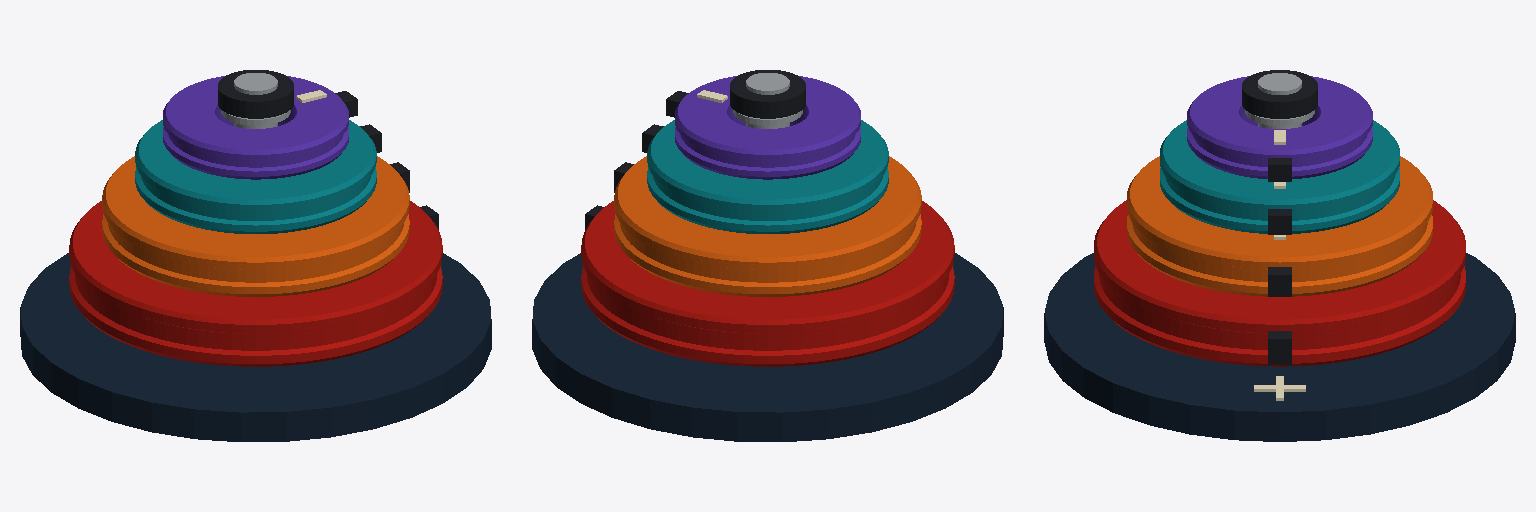
The robot description file, URDF, robot "stepped_coaxial_rotary_stack":
<robot name="stepped_coaxial_rotary_stack">
  <material name="dark_steel">
    <color rgba="0.15 0.16 0.18 1" />
    </material>
  <material name="brushed_steel">
    <color rgba="0.63 0.65 0.66 1" />
    </material>
  <material name="ground_blue">
    <color rgba="0.12 0.18 0.25 1" />
    </material>
  <material name="bronze_bearing">
    <color rgba="0.72 0.48 0.24 1" />
    </material>
  <material name="ivory_tick">
    <color rgba="0.92 0.88 0.76 1" />
    </material>
  <material name="stage_red">
    <color rgba="0.7 0.13 0.1 1" />
    </material>
  <material name="stage_orange">
    <color rgba="0.85 0.4 0.1 1" />
    </material>
  <material name="stage_teal">
    <color rgba="0.08 0.52 0.55 1" />
    </material>
  <material name="stage_violet">
    <color rgba="0.38 0.25 0.68 1" />
    </material>
  <link name="base">
    <inertial>
      <origin xyz="0 0 0.26" rpy="0 0 0" />
      <mass value="8.5" />
      <inertia ixx="0.584446" ixy="0" ixz="0" iyy="0.584446" iyz="0" izz="0.785825" />
      </inertial>
    <visual name="ground_plinth">
      <origin xyz="0 0 0.03" rpy="0 0 0" />
      <geometry>
        <cylinder radius="0.43" length="0.06" />
        </geometry>
      <material name="ground_blue">
        <color rgba="0.12 0.18 0.25 1" />
        </material>
      </visual>
    <visual name="lower_bearing_housing">
      <origin xyz="0 0 0.0775" rpy="0 0 0" />
      <geometry>
        <cylinder radius="0.185" length="0.035" />
        </geometry>
      <material name="dark_steel">
        <color rgba="0.15 0.16 0.18 1" />
        </material>
      </visual>
    <visual name="common_shaft">
      <origin xyz="0 0 0.3" rpy="0 0 0" />
      <geometry>
        <cylinder radius="0.04" length="0.45" />
        </geometry>
      <material name="brushed_steel">
        <color rgba="0.63 0.65 0.66 1" />
        </material>
      </visual>
    <visual name="shaft_cap">
      <origin xyz="0 0 0.5" rpy="0 0 0" />
      <geometry>
        <cylinder radius="0.07" length="0.034" />
        </geometry>
      <material name="dark_steel">
        <color rgba="0.15 0.16 0.18 1" />
        </material>
      </visual>
    <visual name="shaft_spacer_0">
      <origin xyz="0 0 0.101" rpy="0 0 0" />
      <geometry>
        <cylinder radius="0.064" length="0.01" />
        </geometry>
      <material name="brushed_steel">
        <color rgba="0.63 0.65 0.66 1" />
        </material>
      </visual>
    <visual name="shaft_spacer_1">
      <origin xyz="0 0 0.211" rpy="0 0 0" />
      <geometry>
        <cylinder radius="0.064" length="0.013" />
        </geometry>
      <material name="brushed_steel">
        <color rgba="0.63 0.65 0.66 1" />
        </material>
      </visual>
    <visual name="shaft_spacer_2">
      <origin xyz="0 0 0.309" rpy="0 0 0" />
      <geometry>
        <cylinder radius="0.064" length="0.014" />
        </geometry>
      <material name="brushed_steel">
        <color rgba="0.63 0.65 0.66 1" />
        </material>
      </visual>
    <visual name="shaft_spacer_3">
      <origin xyz="0 0 0.397" rpy="0 0 0" />
      <geometry>
        <cylinder radius="0.064" length="0.014" />
        </geometry>
      <material name="brushed_steel">
        <color rgba="0.63 0.65 0.66 1" />
        </material>
      </visual>
    <visual name="shaft_spacer_4">
      <origin xyz="0 0 0.472" rpy="0 0 0" />
      <geometry>
        <cylinder radius="0.064" length="0.012" />
        </geometry>
      <material name="brushed_steel">
        <color rgba="0.63 0.65 0.66 1" />
        </material>
      </visual>
    <visual name="support_washer_0">
      <origin xyz="0 0 0.1045" rpy="0 0 0" />
      <geometry>
        <cylinder radius="0.092" length="0.006" />
        </geometry>
      <material name="bronze_bearing">
        <color rgba="0.72 0.48 0.24 1" />
        </material>
      </visual>
    <visual name="support_washer_1">
      <origin xyz="0 0 0.217" rpy="0 0 0" />
      <geometry>
        <cylinder radius="0.092" length="0.006" />
        </geometry>
      <material name="bronze_bearing">
        <color rgba="0.72 0.48 0.24 1" />
        </material>
      </visual>
    <visual name="support_washer_2">
      <origin xyz="0 0 0.315" rpy="0 0 0" />
      <geometry>
        <cylinder radius="0.092" length="0.006" />
        </geometry>
      <material name="bronze_bearing">
        <color rgba="0.72 0.48 0.24 1" />
        </material>
      </visual>
    <visual name="support_washer_3">
      <origin xyz="0 0 0.402" rpy="0 0 0" />
      <geometry>
        <cylinder radius="0.092" length="0.006" />
        </geometry>
      <material name="bronze_bearing">
        <color rgba="0.72 0.48 0.24 1" />
        </material>
      </visual>
    <visual name="base_tick_0">
      <origin xyz="0.335 0 0.063" rpy="0 0 0" />
      <geometry>
        <box size="0.095 0.014 0.008" />
        </geometry>
      <material name="ivory_tick">
        <color rgba="0.92 0.88 0.76 1" />
        </material>
      </visual>
    <visual name="base_tick_1">
      <origin xyz="0.335 0 0.063" rpy="0 0 1.5708" />
      <geometry>
        <box size="0.095 0.014 0.008" />
        </geometry>
      <material name="ivory_tick">
        <color rgba="0.92 0.88 0.76 1" />
        </material>
      </visual>
    <visual name="base_tick_2">
      <origin xyz="0.335 0 0.063" rpy="0 0 3.14159" />
      <geometry>
        <box size="0.095 0.014 0.008" />
        </geometry>
      <material name="ivory_tick">
        <color rgba="0.92 0.88 0.76 1" />
        </material>
      </visual>
    <visual name="base_tick_3">
      <origin xyz="0.335 0 0.063" rpy="0 0 4.71239" />
      <geometry>
        <box size="0.095 0.014 0.008" />
        </geometry>
      <material name="ivory_tick">
        <color rgba="0.92 0.88 0.76 1" />
        </material>
      </visual>
    <collision name="ground_plinth">
      <origin xyz="0 0 0.03" rpy="0 0 0" />
      <geometry>
        <cylinder radius="0.43" length="0.06" />
        </geometry>
      </collision>
    <collision name="lower_bearing_housing">
      <origin xyz="0 0 0.0775" rpy="0 0 0" />
      <geometry>
        <cylinder radius="0.185" length="0.035" />
        </geometry>
      </collision>
    <collision name="common_shaft">
      <origin xyz="0 0 0.3" rpy="0 0 0" />
      <geometry>
        <cylinder radius="0.04" length="0.45" />
        </geometry>
      </collision>
    <collision name="shaft_cap">
      <origin xyz="0 0 0.5" rpy="0 0 0" />
      <geometry>
        <cylinder radius="0.07" length="0.034" />
        </geometry>
      </collision>
    <collision name="shaft_spacer_0">
      <origin xyz="0 0 0.101" rpy="0 0 0" />
      <geometry>
        <cylinder radius="0.064" length="0.01" />
        </geometry>
      </collision>
    <collision name="shaft_spacer_1">
      <origin xyz="0 0 0.211" rpy="0 0 0" />
      <geometry>
        <cylinder radius="0.064" length="0.013" />
        </geometry>
      </collision>
    <collision name="shaft_spacer_2">
      <origin xyz="0 0 0.309" rpy="0 0 0" />
      <geometry>
        <cylinder radius="0.064" length="0.014" />
        </geometry>
      </collision>
    <collision name="shaft_spacer_3">
      <origin xyz="0 0 0.397" rpy="0 0 0" />
      <geometry>
        <cylinder radius="0.064" length="0.014" />
        </geometry>
      </collision>
    <collision name="shaft_spacer_4">
      <origin xyz="0 0 0.472" rpy="0 0 0" />
      <geometry>
        <cylinder radius="0.064" length="0.012" />
        </geometry>
      </collision>
    <collision name="support_washer_0">
      <origin xyz="0 0 0.1045" rpy="0 0 0" />
      <geometry>
        <cylinder radius="0.092" length="0.006" />
        </geometry>
      </collision>
    <collision name="support_washer_1">
      <origin xyz="0 0 0.217" rpy="0 0 0" />
      <geometry>
        <cylinder radius="0.092" length="0.006" />
        </geometry>
      </collision>
    <collision name="support_washer_2">
      <origin xyz="0 0 0.315" rpy="0 0 0" />
      <geometry>
        <cylinder radius="0.092" length="0.006" />
        </geometry>
      </collision>
    <collision name="support_washer_3">
      <origin xyz="0 0 0.402" rpy="0 0 0" />
      <geometry>
        <cylinder radius="0.092" length="0.006" />
        </geometry>
      </collision>
    <collision name="base_tick_0">
      <origin xyz="0.335 0 0.063" rpy="0 0 0" />
      <geometry>
        <box size="0.095 0.014 0.008" />
        </geometry>
      </collision>
    <collision name="base_tick_1">
      <origin xyz="0.335 0 0.063" rpy="0 0 1.5708" />
      <geometry>
        <box size="0.095 0.014 0.008" />
        </geometry>
      </collision>
    <collision name="base_tick_2">
      <origin xyz="0.335 0 0.063" rpy="0 0 3.14159" />
      <geometry>
        <box size="0.095 0.014 0.008" />
        </geometry>
      </collision>
    <collision name="base_tick_3">
      <origin xyz="0.335 0 0.063" rpy="0 0 4.71239" />
      <geometry>
        <box size="0.095 0.014 0.008" />
        </geometry>
      </collision>
    </link>
  <link name="stage_0">
    <inertial>
      <mass value="2.9" />
      <inertia ixx="0.085991" ixy="0" ixz="0" iyy="0.085991" iyz="0" izz="0.16762" />
      </inertial>
    <visual name="stage_body">
      <geometry>
        <mesh filename="assets/meshes/stage_0_annular_body.obj" />
        </geometry>
      <material name="stage_red">
        <color rgba="0.7 0.13 0.1 1" />
        </material>
      </visual>
    <visual name="top_bearing_race">
      <origin xyz="0 0 0.0495" rpy="0 0 0" />
      <geometry>
        <mesh filename="assets/meshes/stage_0_top_race.obj" />
        </geometry>
      <material name="bronze_bearing">
        <color rgba="0.72 0.48 0.24 1" />
        </material>
      </visual>
    <visual name="top_index_mark">
      <origin xyz="0.16255 0 0.0505" rpy="0 0 0" />
      <geometry>
        <box size="0.1431 0.023 0.006" />
        </geometry>
      <material name="ivory_tick">
        <color rgba="0.92 0.88 0.76 1" />
        </material>
      </visual>
    <visual name="rim_drive_lug">
      <origin xyz="0.347 0 0" rpy="0 0 0" />
      <geometry>
        <box size="0.05 0.043 0.05225" />
        </geometry>
      <material name="dark_steel">
        <color rgba="0.15 0.16 0.18 1" />
        </material>
      </visual>
    <collision name="stage_body">
      <geometry>
        <mesh filename="assets/meshes/stage_0_annular_body.obj" />
        </geometry>
      </collision>
    <collision name="top_bearing_race">
      <origin xyz="0 0 0.0495" rpy="0 0 0" />
      <geometry>
        <mesh filename="assets/meshes/stage_0_top_race.obj" />
        </geometry>
      </collision>
    <collision name="top_index_mark">
      <origin xyz="0.16255 0 0.0505" rpy="0 0 0" />
      <geometry>
        <box size="0.1431 0.023 0.006" />
        </geometry>
      </collision>
    <collision name="rim_drive_lug">
      <origin xyz="0.347 0 0" rpy="0 0 0" />
      <geometry>
        <box size="0.05 0.043 0.05225" />
        </geometry>
      </collision>
    </link>
  <link name="stage_1">
    <inertial>
      <mass value="2.6" />
      <inertia ixx="0.0523467" ixy="0" ixz="0" iyy="0.0523467" iyz="0" izz="0.10192" />
      </inertial>
    <visual name="stage_body">
      <geometry>
        <mesh filename="assets/meshes/stage_1_annular_body.obj" />
        </geometry>
      <material name="stage_orange">
        <color rgba="0.85 0.4 0.1 1" />
        </material>
      </visual>
    <visual name="top_bearing_race">
      <origin xyz="0 0 0.042" rpy="0 0 0" />
      <geometry>
        <mesh filename="assets/meshes/stage_1_top_race.obj" />
        </geometry>
      <material name="bronze_bearing">
        <color rgba="0.72 0.48 0.24 1" />
        </material>
      </visual>
    <visual name="top_index_mark">
      <origin xyz="0.14635 0 0.043" rpy="0 0 0" />
      <geometry>
        <box size="0.1107 0.023 0.006" />
        </geometry>
      <material name="ivory_tick">
        <color rgba="0.92 0.88 0.76 1" />
        </material>
      </visual>
    <visual name="rim_drive_lug">
      <origin xyz="0.287 0 0" rpy="0 0 0" />
      <geometry>
        <box size="0.05 0.043 0.044" />
        </geometry>
      <material name="dark_steel">
        <color rgba="0.15 0.16 0.18 1" />
        </material>
      </visual>
    <collision name="stage_body">
      <geometry>
        <mesh filename="assets/meshes/stage_1_annular_body.obj" />
        </geometry>
      </collision>
    <collision name="top_bearing_race">
      <origin xyz="0 0 0.042" rpy="0 0 0" />
      <geometry>
        <mesh filename="assets/meshes/stage_1_top_race.obj" />
        </geometry>
      </collision>
    <collision name="top_index_mark">
      <origin xyz="0.14635 0 0.043" rpy="0 0 0" />
      <geometry>
        <box size="0.1107 0.023 0.006" />
        </geometry>
      </collision>
    <collision name="rim_drive_lug">
      <origin xyz="0.287 0 0" rpy="0 0 0" />
      <geometry>
        <box size="0.05 0.043 0.044" />
        </geometry>
      </collision>
    </link>
  <link name="stage_2">
    <inertial>
      <mass value="2.3" />
      <inertia ixx="0.0287692" ixy="0" ixz="0" iyy="0.0287692" iyz="0" izz="0.05566" />
      </inertial>
    <visual name="stage_body">
      <geometry>
        <mesh filename="assets/meshes/stage_2_annular_body.obj" />
        </geometry>
      <material name="stage_teal">
        <color rgba="0.08 0.52 0.55 1" />
        </material>
      </visual>
    <visual name="top_bearing_race">
      <origin xyz="0 0 0.037" rpy="0 0 0" />
      <geometry>
        <mesh filename="assets/meshes/stage_2_top_race.obj" />
        </geometry>
      <material name="bronze_bearing">
        <color rgba="0.72 0.48 0.24 1" />
        </material>
      </visual>
    <visual name="top_index_mark">
      <origin xyz="0.13015 0 0.038" rpy="0 0 0" />
      <geometry>
        <box size="0.0783 0.023 0.006" />
        </geometry>
      <material name="ivory_tick">
        <color rgba="0.92 0.88 0.76 1" />
        </material>
      </visual>
    <visual name="rim_drive_lug">
      <origin xyz="0.227 0 0" rpy="0 0 0" />
      <geometry>
        <box size="0.05 0.043 0.0385" />
        </geometry>
      <material name="dark_steel">
        <color rgba="0.15 0.16 0.18 1" />
        </material>
      </visual>
    <collision name="stage_body">
      <geometry>
        <mesh filename="assets/meshes/stage_2_annular_body.obj" />
        </geometry>
      </collision>
    <collision name="top_bearing_race">
      <origin xyz="0 0 0.037" rpy="0 0 0" />
      <geometry>
        <mesh filename="assets/meshes/stage_2_top_race.obj" />
        </geometry>
      </collision>
    <collision name="top_index_mark">
      <origin xyz="0.13015 0 0.038" rpy="0 0 0" />
      <geometry>
        <box size="0.0783 0.023 0.006" />
        </geometry>
      </collision>
    <collision name="rim_drive_lug">
      <origin xyz="0.227 0 0" rpy="0 0 0" />
      <geometry>
        <box size="0.05 0.043 0.0385" />
        </geometry>
      </collision>
    </link>
  <link name="stage_3">
    <inertial>
      <mass value="2.05" />
      <inertia ixx="0.0154263" ixy="0" ixz="0" iyy="0.0154263" iyz="0" izz="0.0296225" />
      </inertial>
    <visual name="stage_body">
      <geometry>
        <mesh filename="assets/meshes/stage_3_annular_body.obj" />
        </geometry>
      <material name="stage_violet">
        <color rgba="0.38 0.25 0.68 1" />
        </material>
      </visual>
    <visual name="top_bearing_race">
      <origin xyz="0 0 0.032" rpy="0 0 0" />
      <geometry>
        <mesh filename="assets/meshes/stage_3_top_race.obj" />
        </geometry>
      <material name="bronze_bearing">
        <color rgba="0.72 0.48 0.24 1" />
        </material>
      </visual>
    <visual name="top_index_mark">
      <origin xyz="0.11665 0 0.033" rpy="0 0 0" />
      <geometry>
        <box size="0.0513 0.023 0.006" />
        </geometry>
      <material name="ivory_tick">
        <color rgba="0.92 0.88 0.76 1" />
        </material>
      </visual>
    <visual name="rim_drive_lug">
      <origin xyz="0.177 0 0" rpy="0 0 0" />
      <geometry>
        <box size="0.05 0.043 0.033" />
        </geometry>
      <material name="dark_steel">
        <color rgba="0.15 0.16 0.18 1" />
        </material>
      </visual>
    <collision name="stage_body">
      <geometry>
        <mesh filename="assets/meshes/stage_3_annular_body.obj" />
        </geometry>
      </collision>
    <collision name="top_bearing_race">
      <origin xyz="0 0 0.032" rpy="0 0 0" />
      <geometry>
        <mesh filename="assets/meshes/stage_3_top_race.obj" />
        </geometry>
      </collision>
    <collision name="top_index_mark">
      <origin xyz="0.11665 0 0.033" rpy="0 0 0" />
      <geometry>
        <box size="0.0513 0.023 0.006" />
        </geometry>
      </collision>
    <collision name="rim_drive_lug">
      <origin xyz="0.177 0 0" rpy="0 0 0" />
      <geometry>
        <box size="0.05 0.043 0.033" />
        </geometry>
      </collision>
    </link>
  <joint name="stage_0_rotate" type="revolute">
    <origin xyz="0 0 0.155" rpy="0 0 0" />
    <parent link="base" />
    <child link="stage_0" />
    <axis xyz="0 0 1" />
    <limit effort="18" velocity="3.5" lower="-3.14159" upper="3.14159" />
    </joint>
  <joint name="stage_1_rotate" type="revolute">
    <origin xyz="0 0 0.26" rpy="0 0 0" />
    <parent link="base" />
    <child link="stage_1" />
    <axis xyz="0 0 1" />
    <limit effort="14" velocity="3.5" lower="-3.14159" upper="3.14159" />
    </joint>
  <joint name="stage_2_rotate" type="revolute">
    <origin xyz="0 0 0.353" rpy="0 0 0" />
    <parent link="base" />
    <child link="stage_2" />
    <axis xyz="0 0 1" />
    <limit effort="10" velocity="3.5" lower="-3.14159" upper="3.14159" />
    </joint>
  <joint name="stage_3_rotate" type="revolute">
    <origin xyz="0 0 0.435" rpy="0 0 0" />
    <parent link="base" />
    <child link="stage_3" />
    <axis xyz="0 0 1" />
    <limit effort="7" velocity="3.5" lower="-3.14159" upper="3.14159" />
    </joint>
  </robot>

--- What the picture shows (computed from the rendered views, not written in the file) ---
3 views of the same robot in one strip: view 1: azimuth 30°, elevation 25°; view 2: azimuth 150°, elevation 25°; view 3: azimuth 270°, elevation 25° (orthographic).
Model stepped_coaxial_rotary_stack with 5 links and 4 joints (4 revolute), rooted at base, posed all joints at 0.
Visible links, largest first — view 1: base, stage_0, stage_1, stage_2, stage_3; view 2: base, stage_0, stage_1, stage_2, stage_3; view 3: base, stage_0, stage_1, stage_2, stage_3.
Boxes of the visible links, <box> form: base: <box>20,70,491,441</box>; stage_0: <box>69,201,442,366</box>; stage_1: <box>102,156,409,296</box>; stage_2: <box>135,120,381,233</box>; stage_3: <box>163,76,357,179</box>; base: <box>532,70,1003,441</box>; stage_0: <box>581,201,954,366</box>; stage_1: <box>614,156,921,296</box>; stage_2: <box>642,120,888,233</box>; stage_3: <box>666,76,860,179</box>; base: <box>1044,70,1515,441</box>; stage_0: <box>1094,200,1465,366</box>; stage_1: <box>1127,156,1432,296</box>; stage_2: <box>1160,120,1399,234</box>; stage_3: <box>1187,76,1372,181</box>.
Size in the robot's own frame: 0.86 by 0.86 by 0.525 metres.
Meshes: 8 distinct files referenced, 5 mesh visuals loaded (5 OBJ); not drawn: 3 (reference not matched to a file when rendering).
